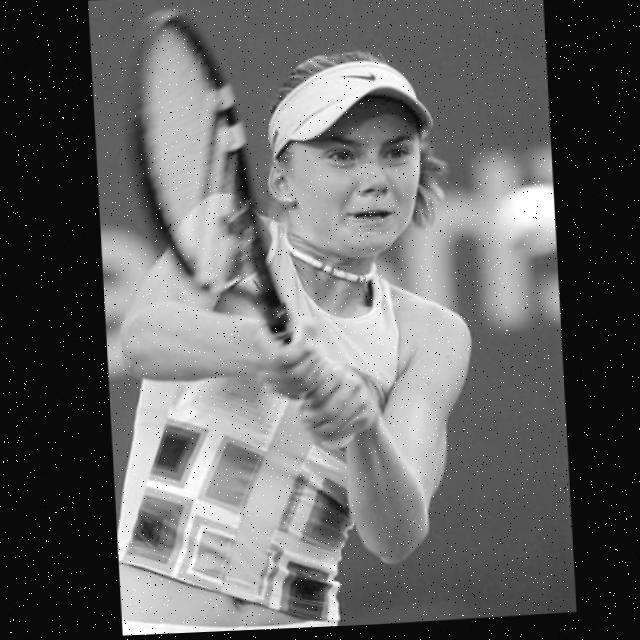face: (265, 49, 442, 277)
